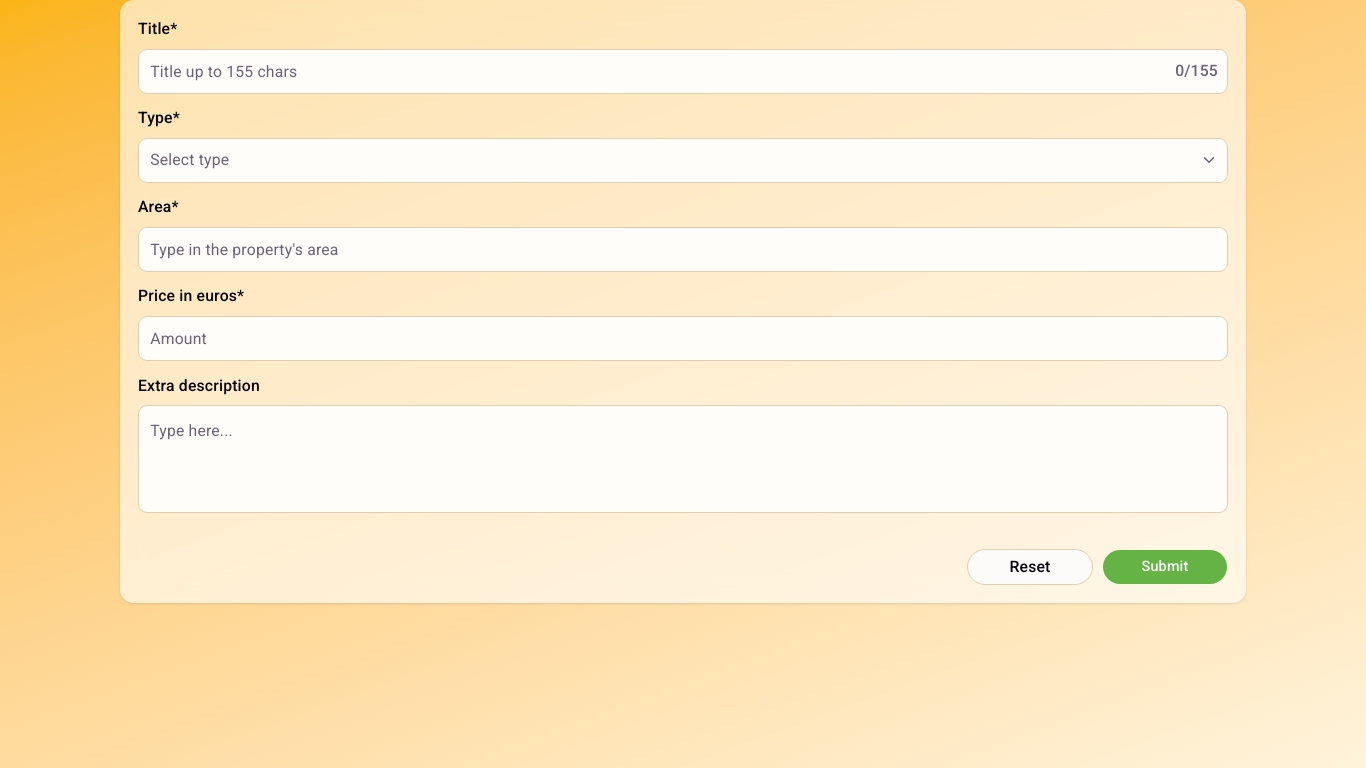
Form › Validation › should display an error for a price of 0
The image size is (1366, 768).
In the field labelled "Price in euros*": {"x": 683, "y": 339} left=138, top=316, right=1228, bottom=361, type "0"
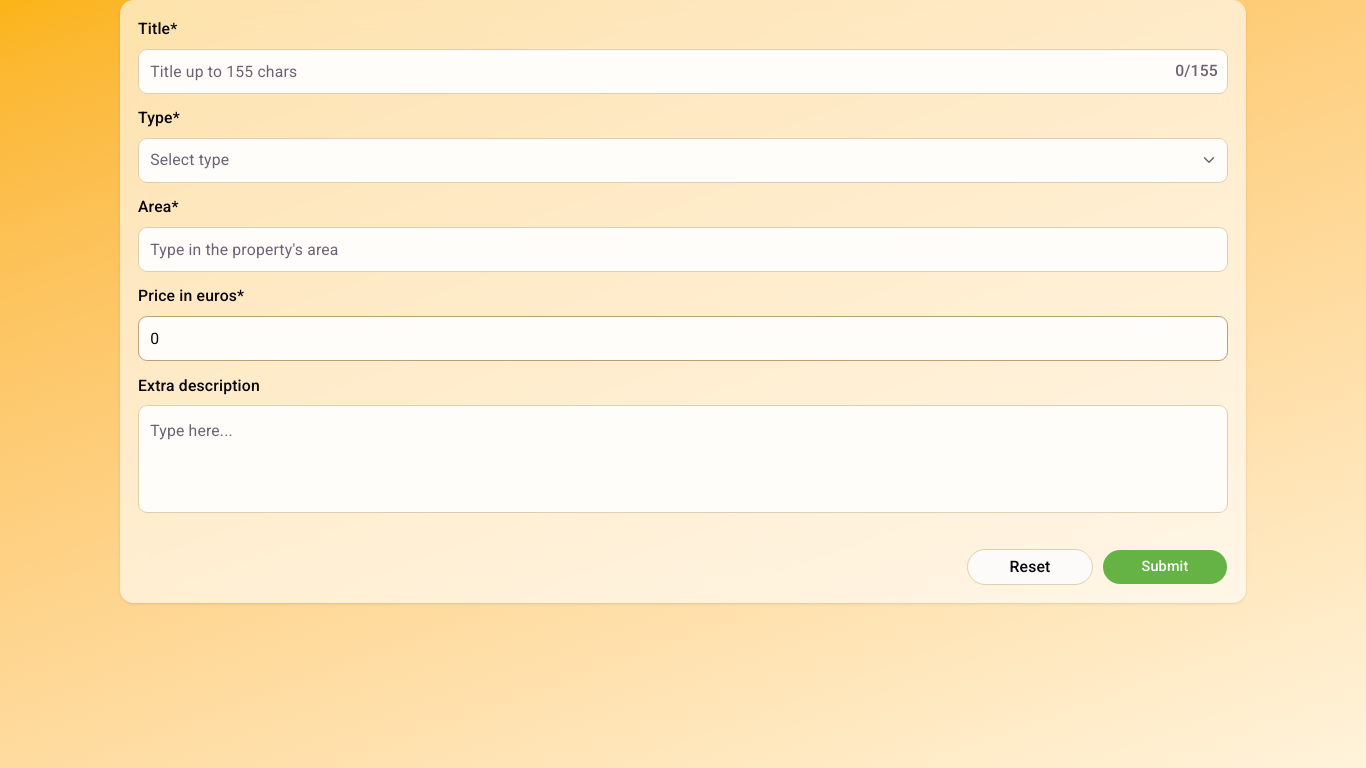
Click the button "Submit": {"x": 1165, "y": 567} left=1102, top=549, right=1228, bottom=585
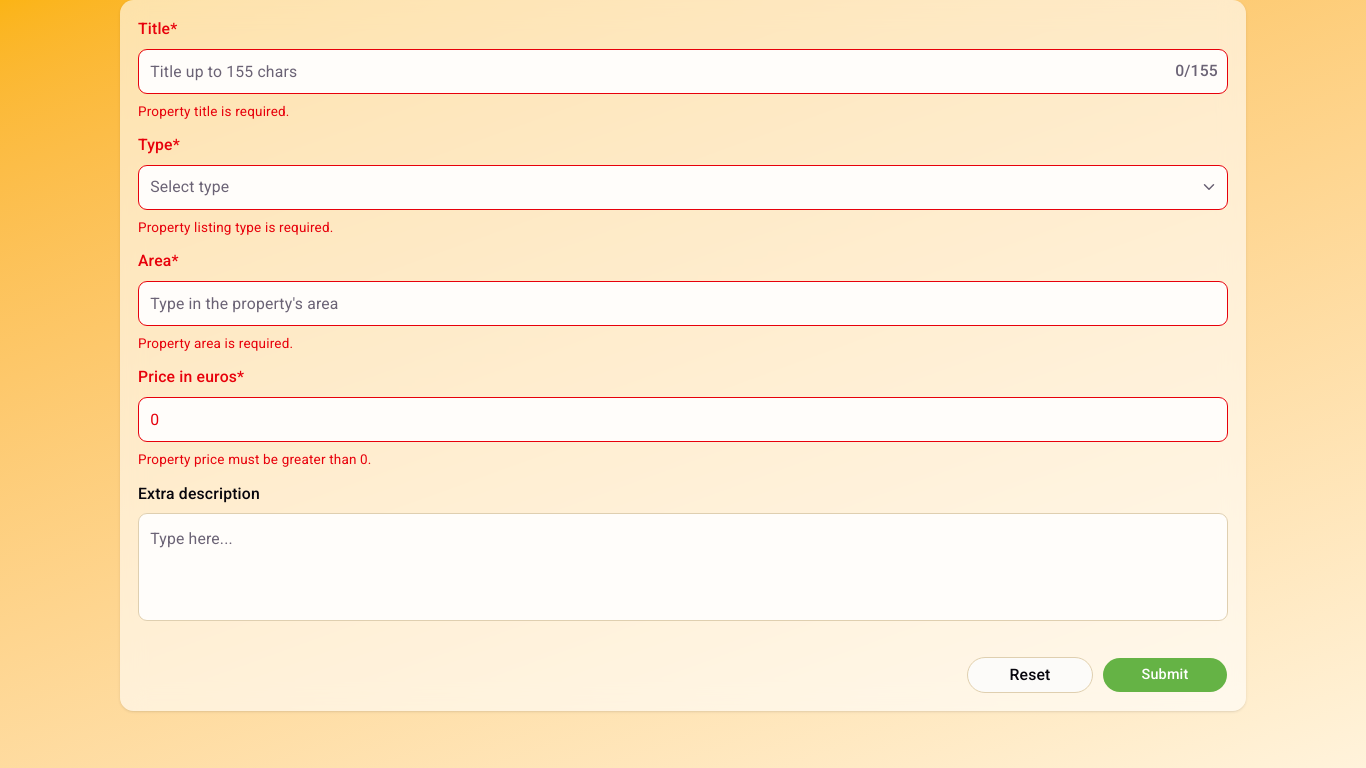
Check: the text "Property price must be greater than 0." is shown, box left=138, top=451, right=372, bottom=467
